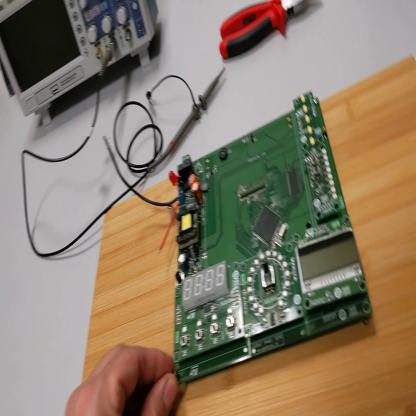hand: (68, 344, 182, 414)
low voltage board: (108, 90, 375, 383)
oscilloscope: (2, 1, 159, 127)
oscilloscope probe tip: (147, 69, 225, 175)
pliers: (219, 2, 316, 62)
working area: (84, 58, 416, 416)
